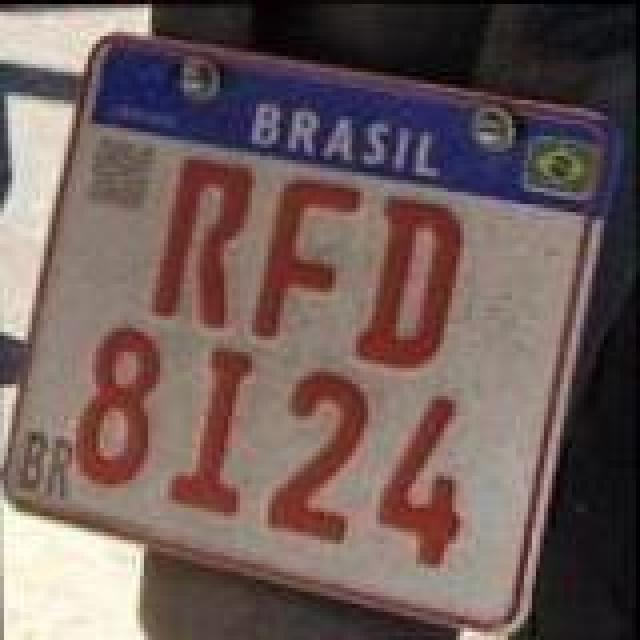2: (262, 370, 374, 546)
4: (376, 396, 468, 568)
8: (70, 326, 166, 490)
D: (346, 194, 466, 370)
F: (246, 176, 366, 340)
I: (166, 348, 262, 520)
R: (140, 154, 256, 330)
